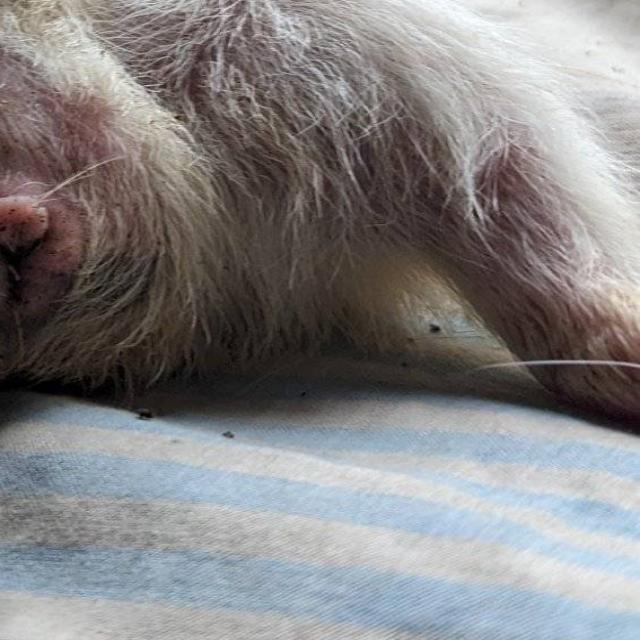mae: (0, 163, 105, 334)
mal: (0, 184, 52, 256)
